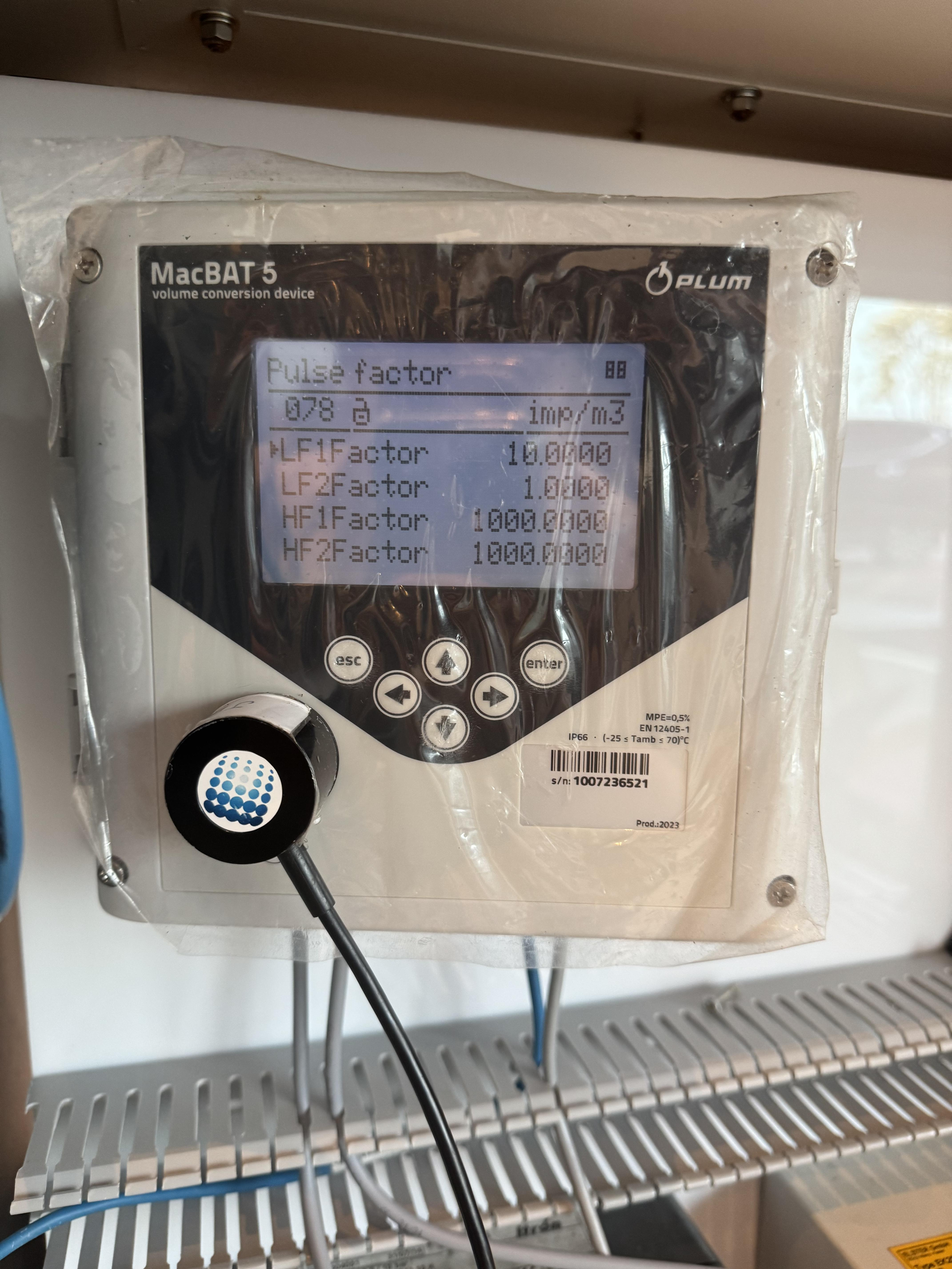digital_screen: (248, 336, 646, 589)
